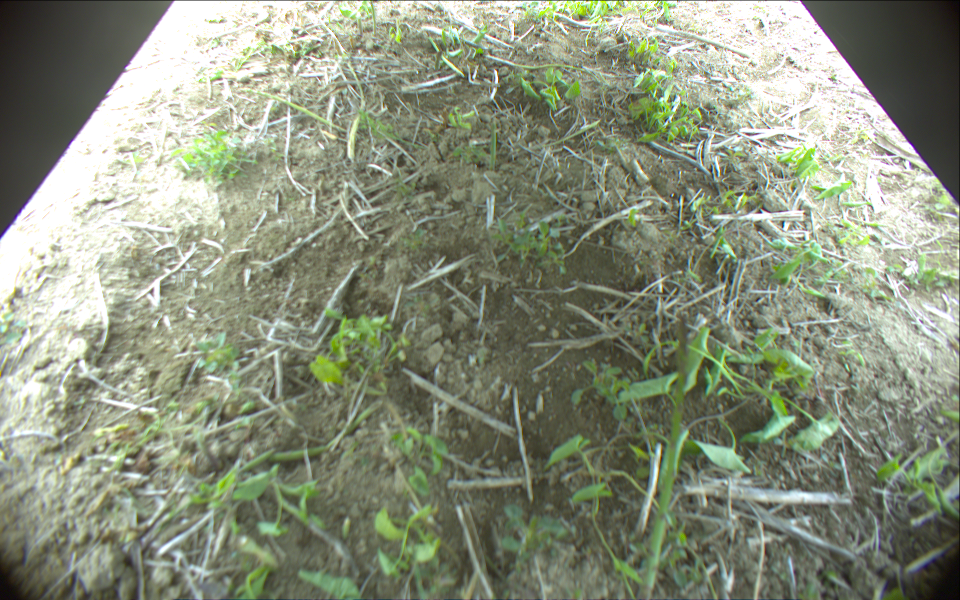aspa: (636, 316, 687, 600), (237, 86, 350, 132), (488, 114, 497, 174)
